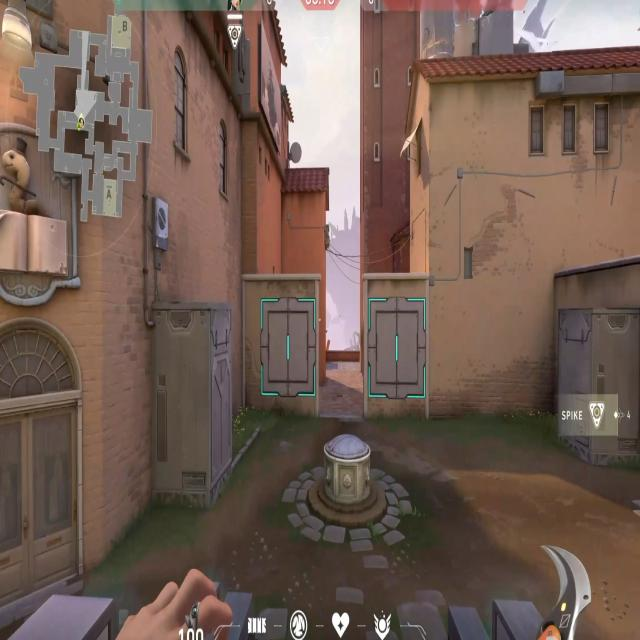Mid_Wall: (240, 265, 328, 422), (359, 266, 434, 429)
